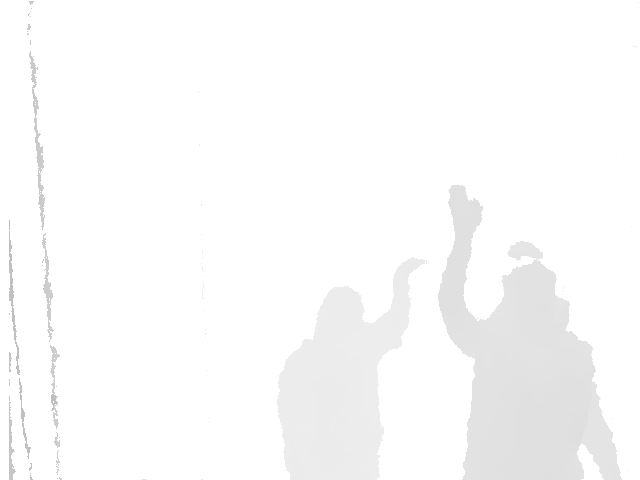hand: (448, 185, 484, 238), (391, 257, 427, 288)
head: (500, 242, 558, 324), (313, 287, 365, 345)
person: (437, 183, 624, 480), (273, 258, 427, 480)
